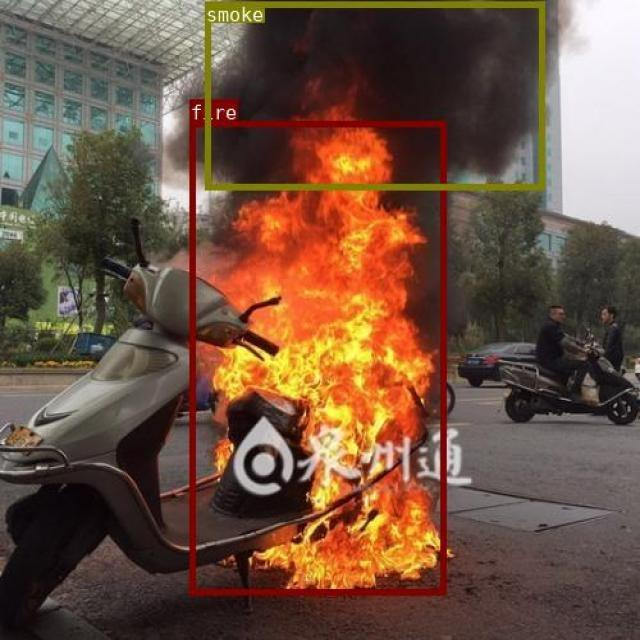fire: (188, 120, 445, 594)
smoke: (205, 1, 544, 188)
